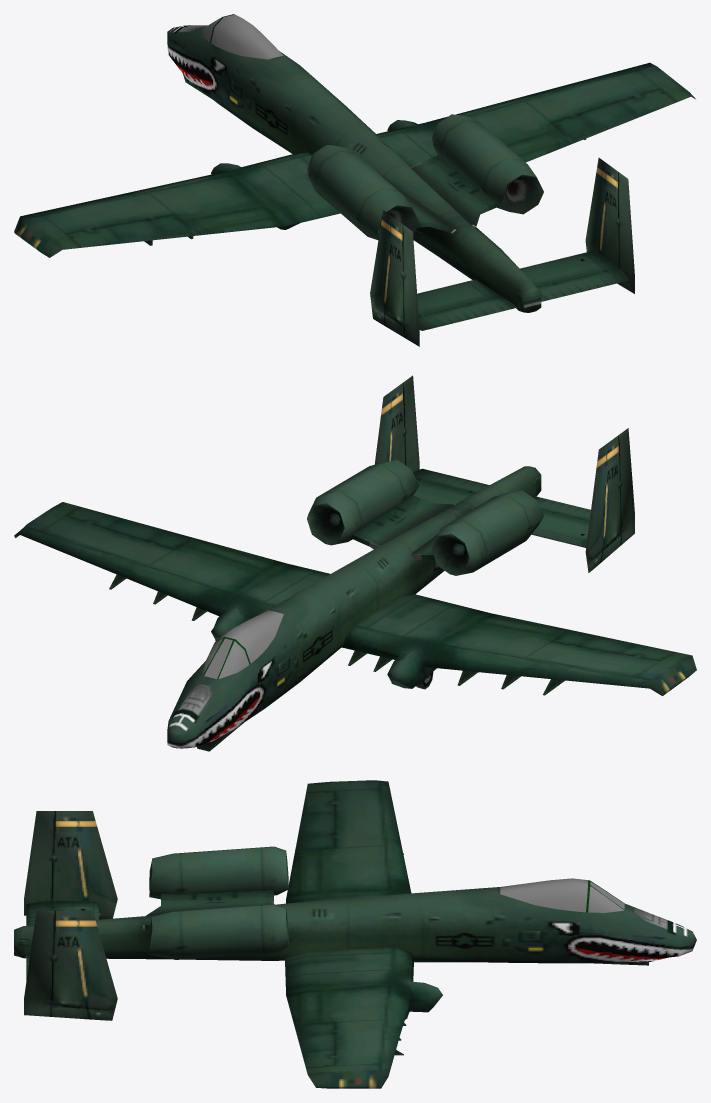
Rendered from A10_SMALL.glb.
The picture shows the model from 3 angles, top to bottom: view 1: azimuth 30°, elevation 25°; view 2: azimuth 150°, elevation 25°; view 3: azimuth 270°, elevation 25°; orthographic projection. The views are drawn at different scales.
Visible parts, largest first — view 1: A10_SMALL; view 2: A10_SMALL; view 3: A10_SMALL.
Boxes of the visible parts, x1,y1,x2,y2 form: A10_SMALL: [14, 14, 695, 346]; A10_SMALL: [14, 375, 696, 751]; A10_SMALL: [14, 780, 696, 1088].
Bounding box in the file's own units: 5.64 × 1.02 × 5.41.
2 materials, 1 textured.
